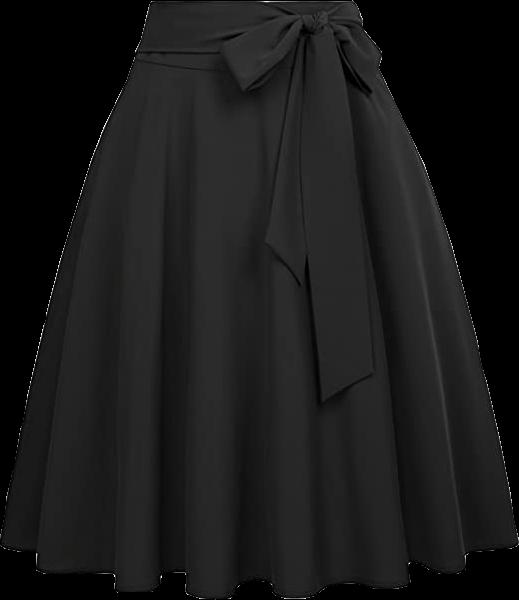Hemline: (0, 537, 518, 599)
Waistline: (133, 42, 372, 67), (150, 0, 351, 12)
